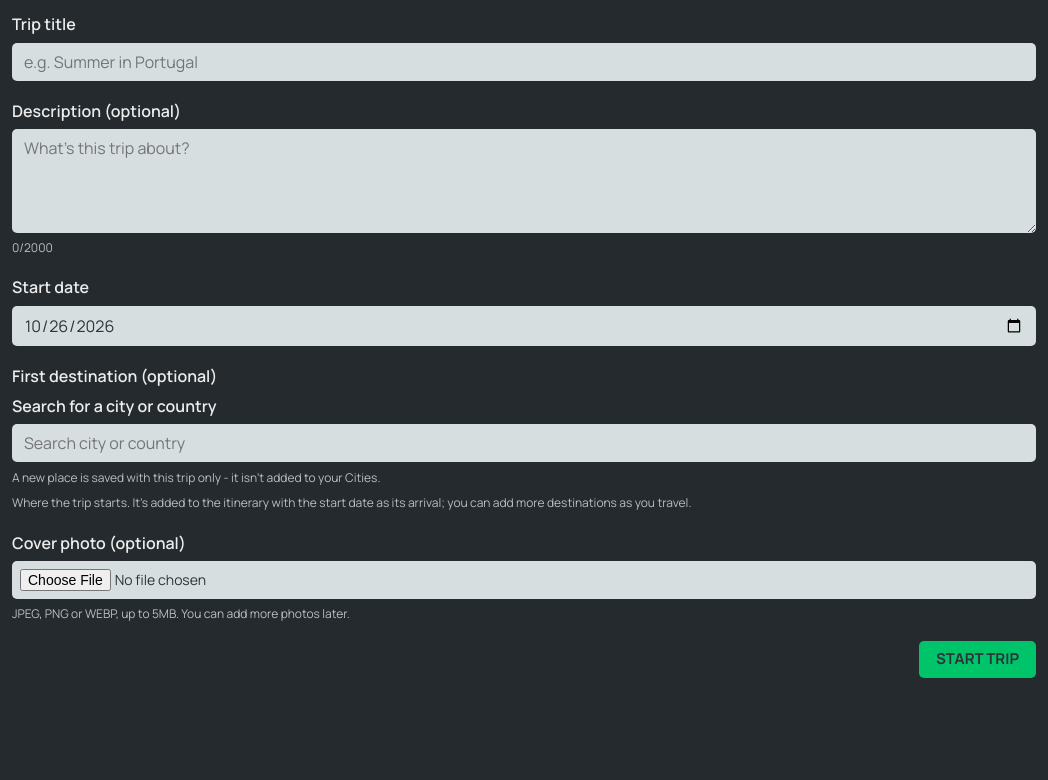
Test: TripDetailsForm › shows the error the save throws and lets the user retry
Type "Lisbon" into the field labelled "Trip title" at (524, 62), box [12,43,1036,81]
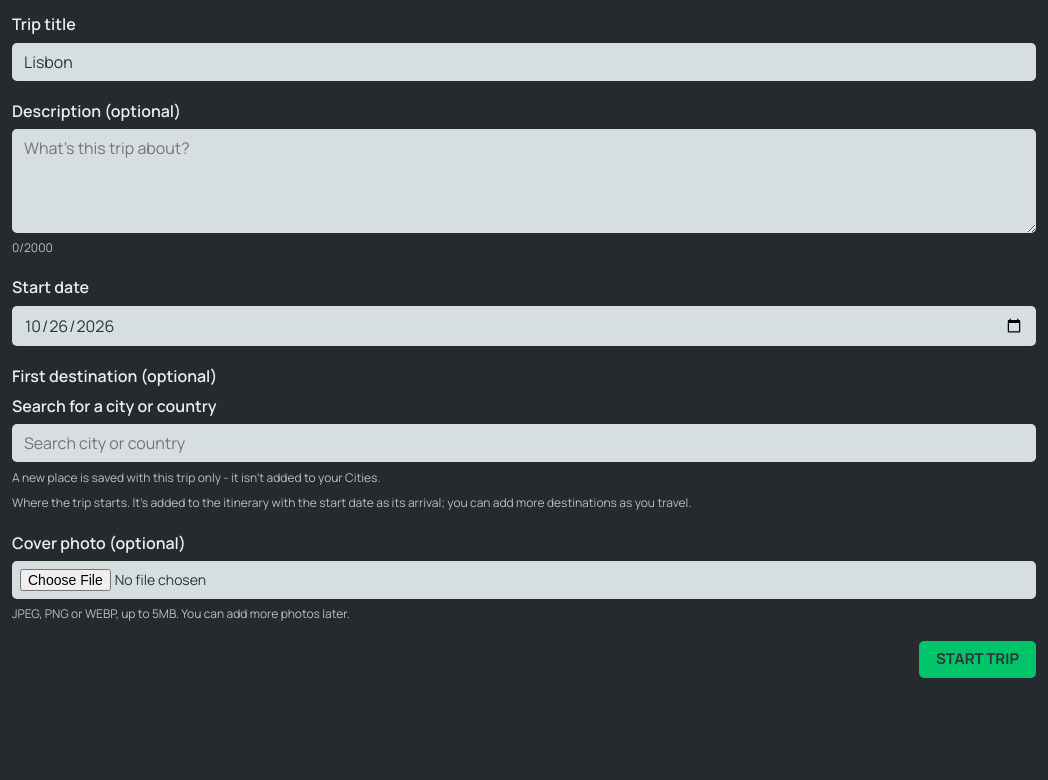
Click the button "Start trip" at (978, 660), box [919,641,1036,678]
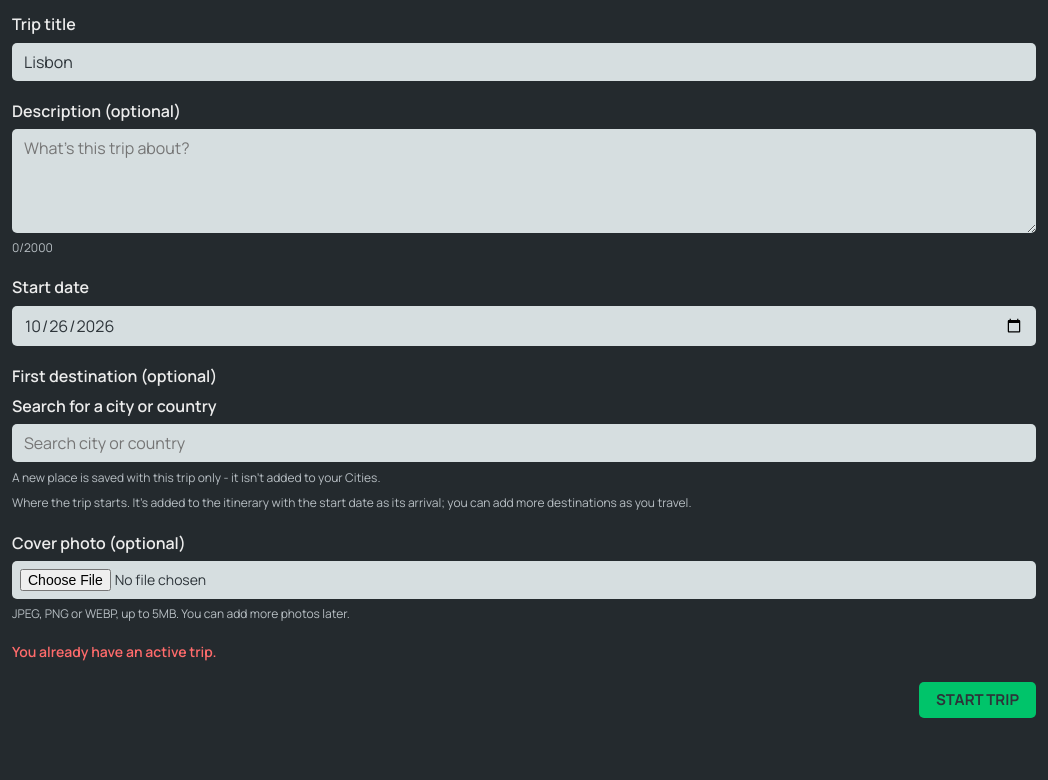
Check: the button "Start trip" is enabled, box [919,682,1036,718]
Check: the message reads "You already have an active trip.", box [12,642,217,661]
